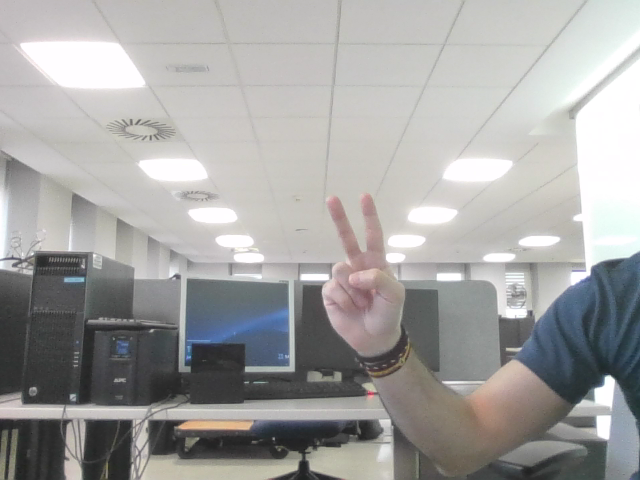2Dedos: (334, 205, 391, 313)
